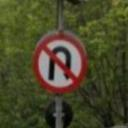NoVirarU: (34, 32, 86, 94)
